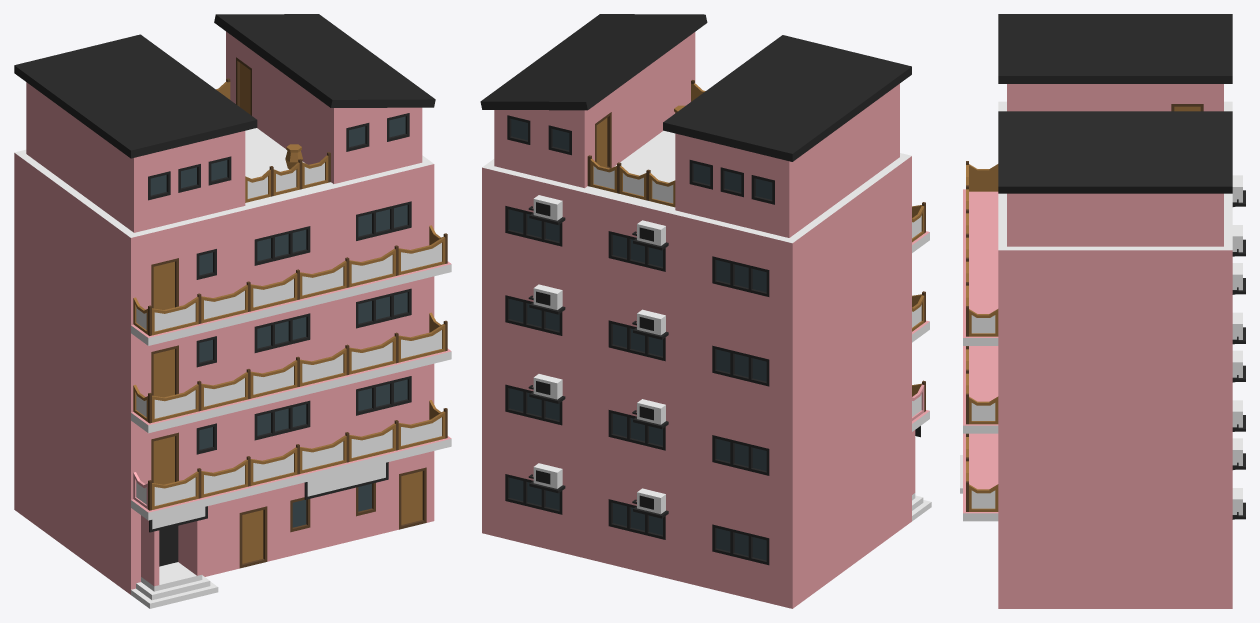
The model's file is india_building-street2-india.fbx.
3 views of the same model, side by side, from view 1: azimuth 30°, elevation 25°; view 2: azimuth 150°, elevation 25°; view 3: azimuth 270°, elevation 25° (orthographic). The views are drawn at different scales.
Parts seen in each view (by area): view 1: india_building_street2_india; view 2: india_building_street2_india; view 3: india_building_street2_india.
Boxes of the visible parts, x1,y1,x2,y2 form: india_building_street2_india: (14,14,451,608); india_building_street2_india: (480,14,931,608); india_building_street2_india: (960,14,1245,608).
Bounding box in the file's own units: 143 × 200 × 116.
